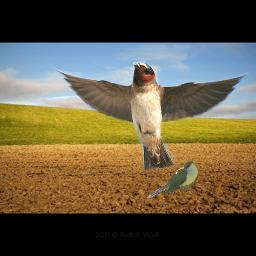Cuckoo: (146, 161, 198, 198)
Swallow: (50, 61, 249, 172)
